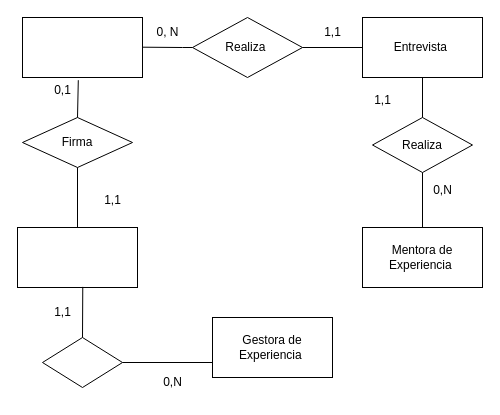
The diagram is 500 pixels wide and 415 high, and some of its shapes have lost their labels. The box of each missing label's shape, as (x1, y1, x2, y2) in pixels:
Acta: (16, 226, 138, 288)
Aspirante: (22, 16, 142, 78)
Notifica: (42, 336, 122, 388)
